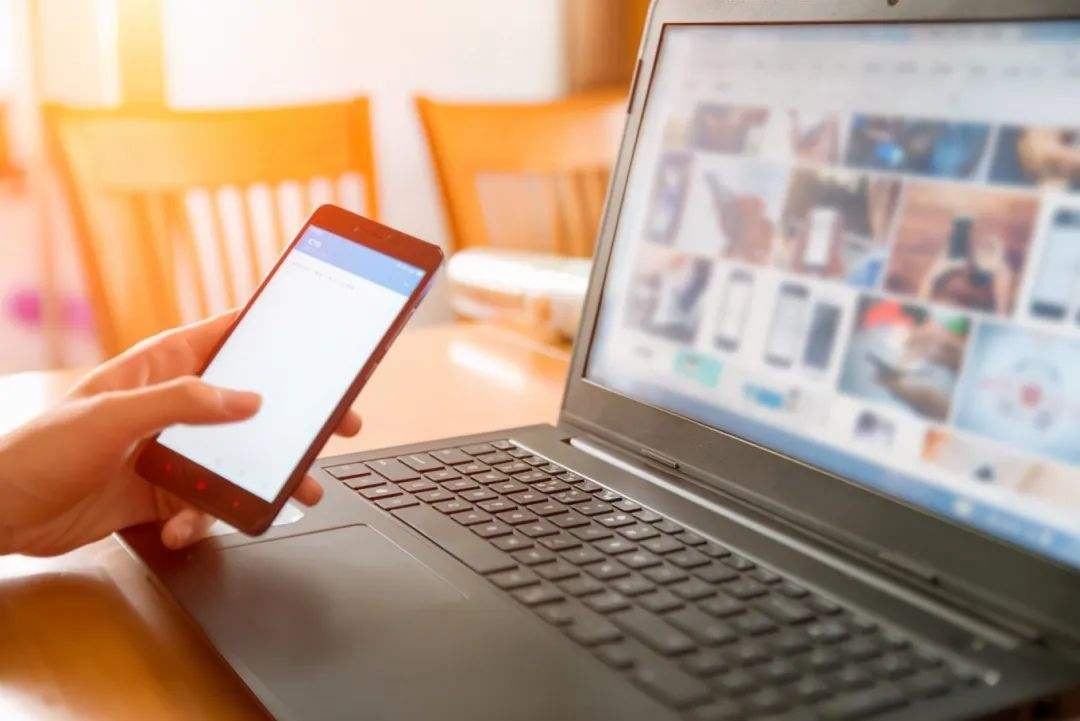reading: (3, 199, 455, 566)
